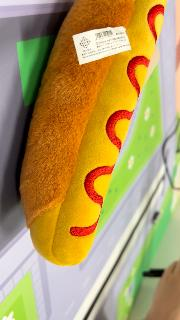hotdog: (19, 1, 168, 268)
